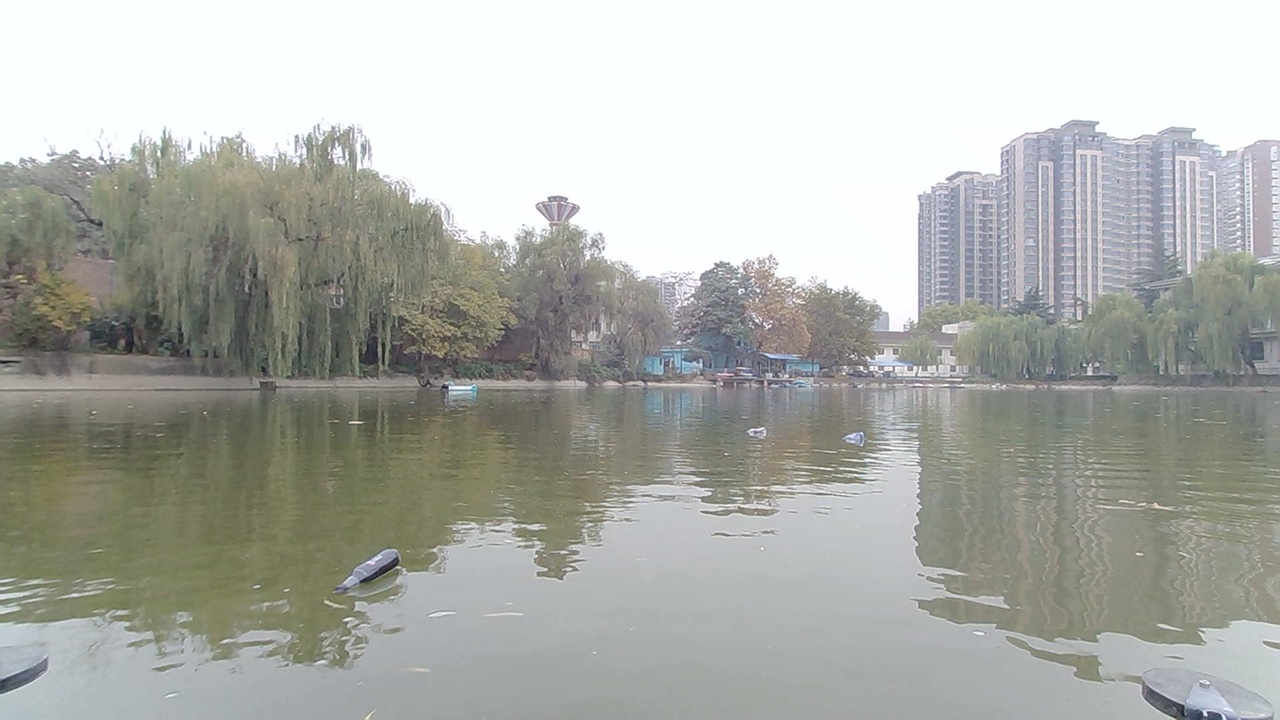bottle: (336, 547, 415, 597), (737, 415, 776, 441), (842, 431, 875, 448)
